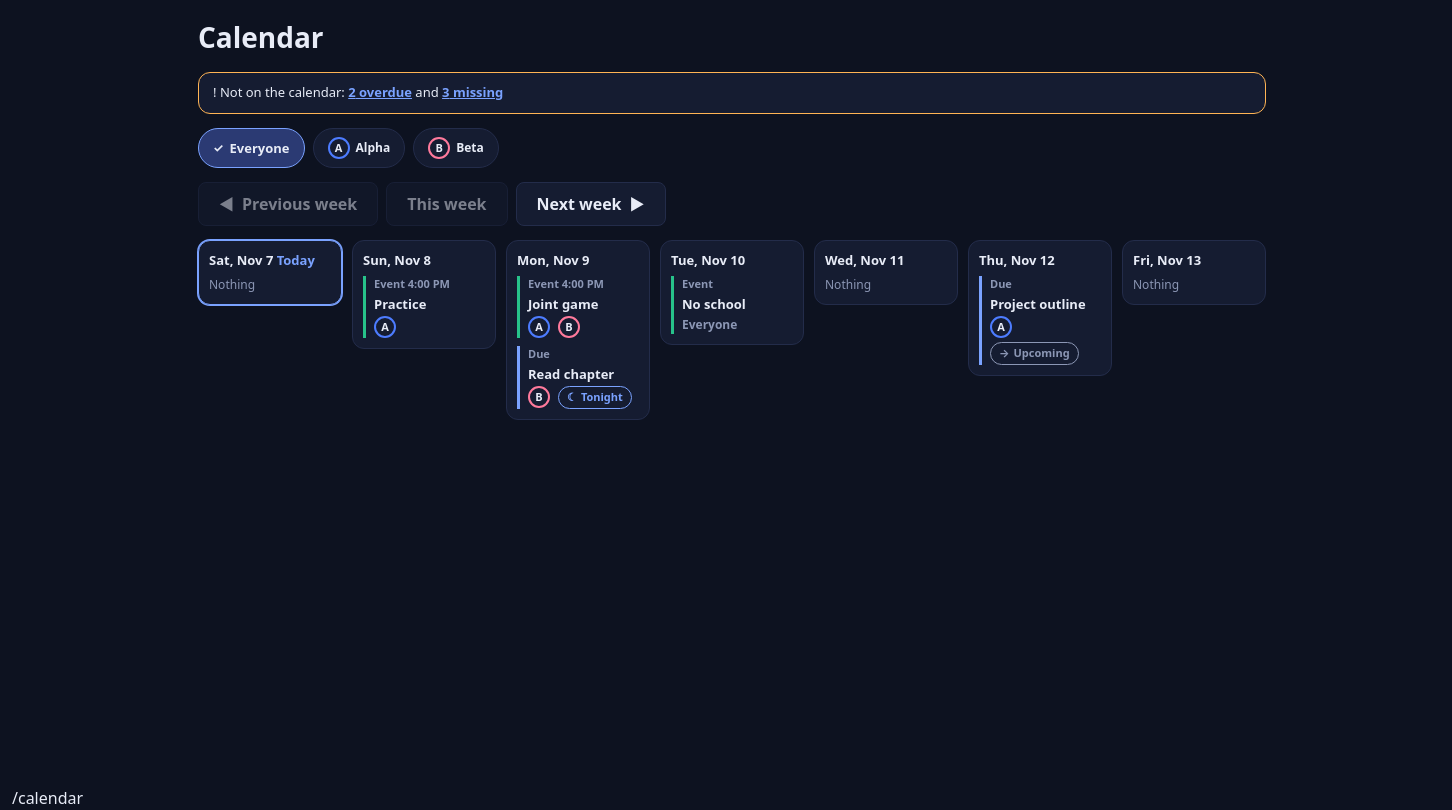
week navigation updates the url and shifts by seven days
Expected: the element "Sat, Nov 7 Today Nothing" is shown, [198, 240, 342, 305]
Click the button "Next week ▶": [591, 204] box [516, 182, 666, 226]
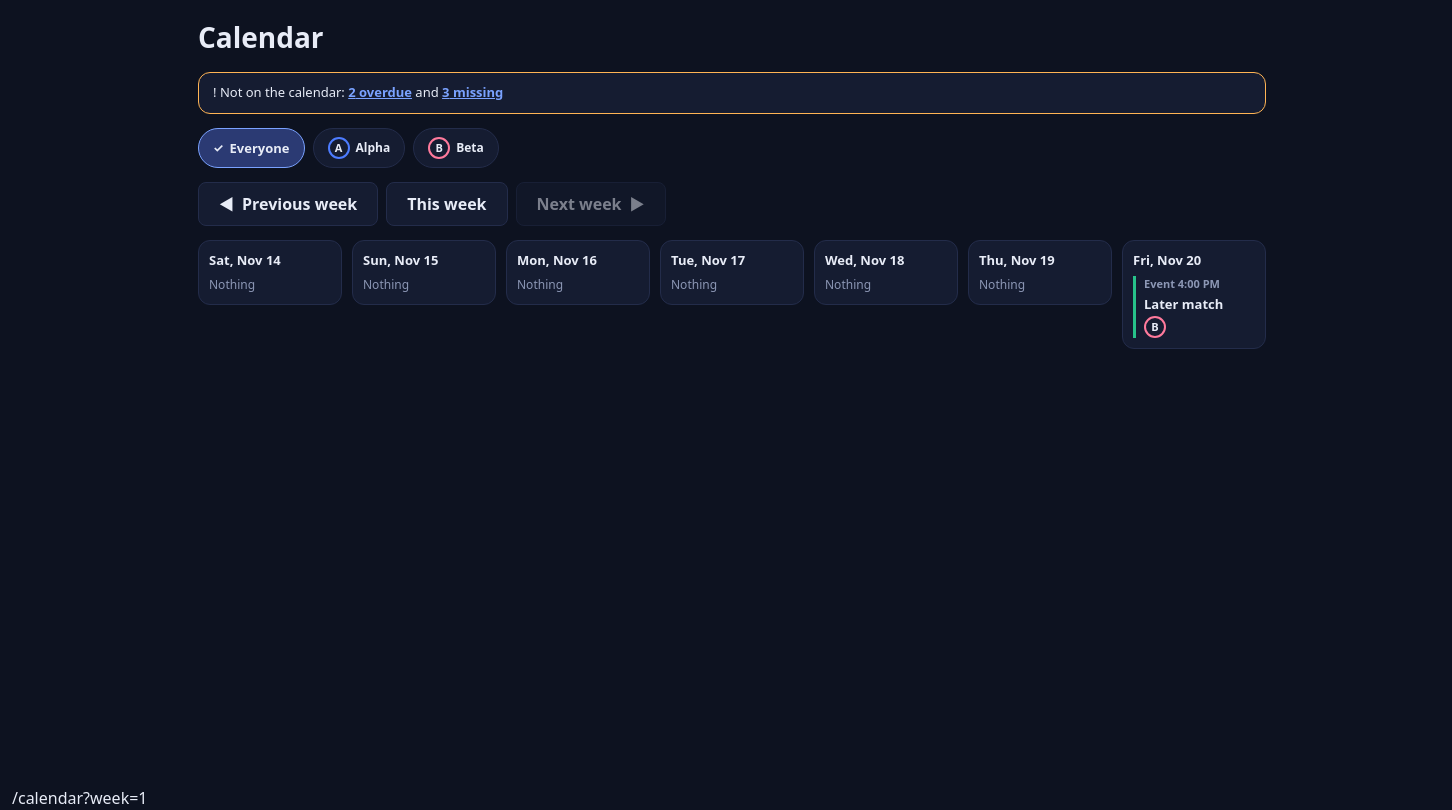
Result: the text with test id "where" reads "/calendar?week=1" at [12, 787, 148, 809]
Result: the element "Sat, Nov 14 Nothing" is shown at [198, 240, 342, 305]
Result: the text "Later match" is shown at [1144, 294, 1223, 312]
Click the button "◀ Previous week": [288, 204] box [198, 182, 378, 226]
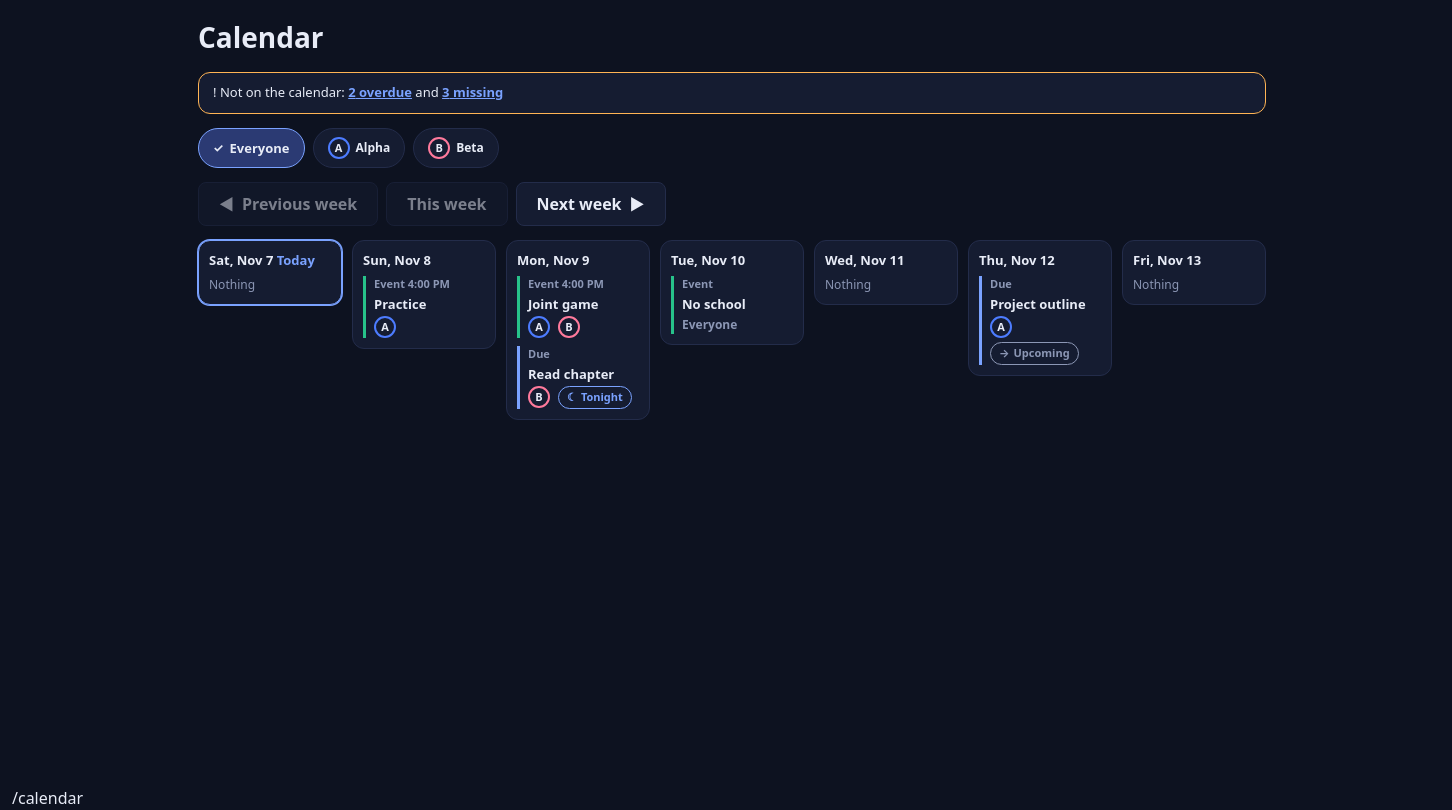
Expected: the text with test id "where" reads "/calendar", [12, 787, 83, 809]
Result: the element "Sat, Nov 7 Today Nothing" is shown at [198, 240, 342, 305]
